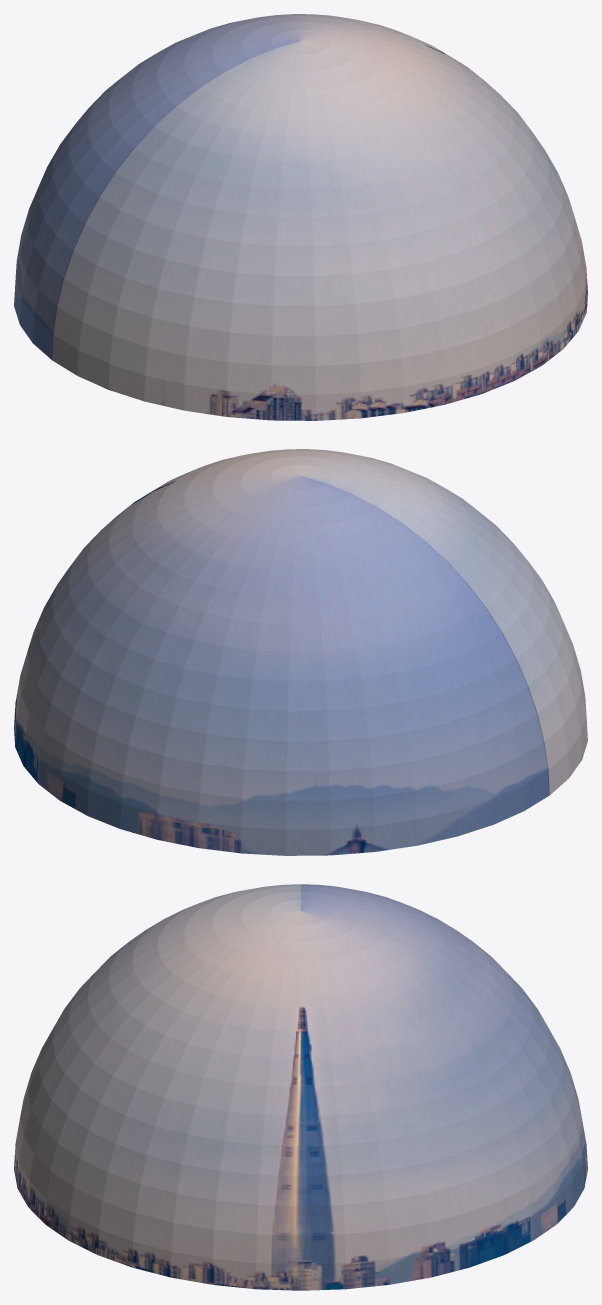
Rendered from halfsphere_12cm.obj.
The picture shows the model from 3 angles, top to bottom: view 1: azimuth 30°, elevation 25°; view 2: azimuth 150°, elevation 25°; view 3: azimuth 270°, elevation 25°; orthographic projection.
Parts seen in each view (by area): view 1: Sphere; view 2: Sphere; view 3: Sphere.
Part boxes in pixels (x1,y1,x2,y2): Sphere: (14, 14, 587, 420); Sphere: (14, 449, 587, 855); Sphere: (14, 884, 587, 1290).
Bounding box in the file's own units: 0.2399 × 0.1192 × 0.2399.
